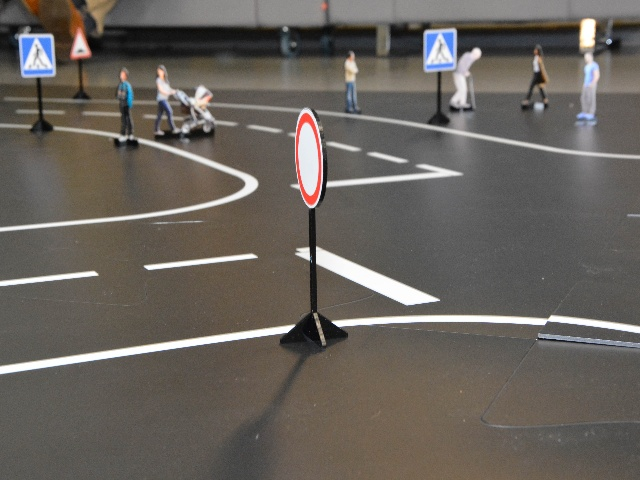person: (152, 61, 223, 141), (110, 64, 143, 153), (517, 43, 556, 116), (570, 50, 605, 130), (445, 45, 484, 116), (340, 48, 366, 116)
